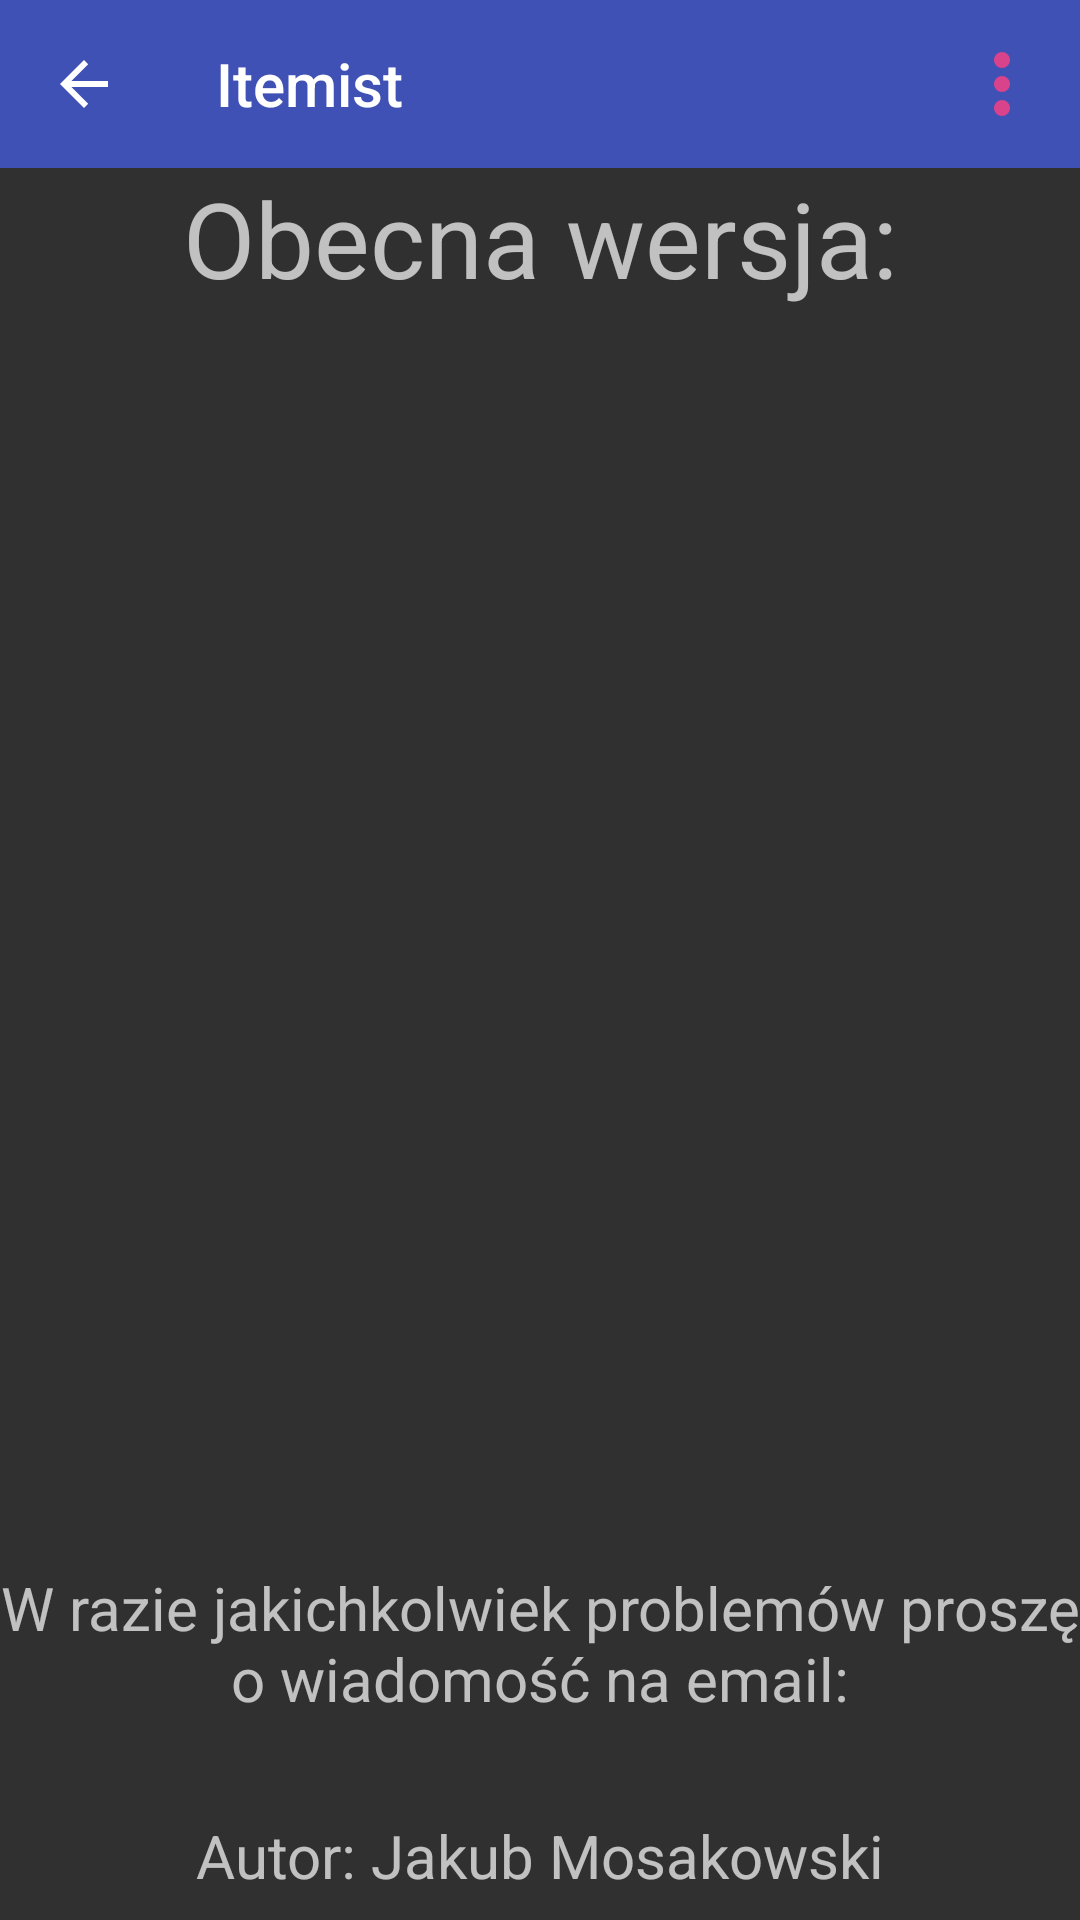

Locate icon controls on the screen. Image size 1080×1920, boxes as (x1, y1, x2, y2).
Przyciski wiecej: (994, 52, 1010, 116)
